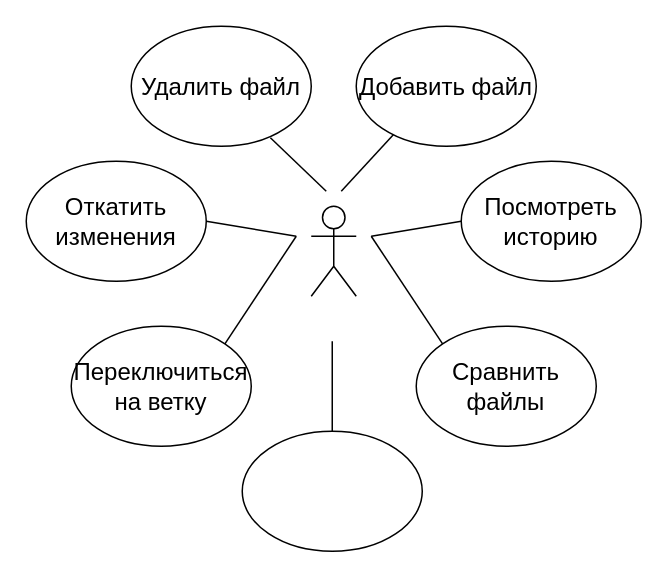
Image size: 668x578. Some labels were removed from this diagram. Each missing label, with the box of its shape:
Пользователь: (310, 205, 356, 296)
Создать ветку: (241, 430, 422, 551)
